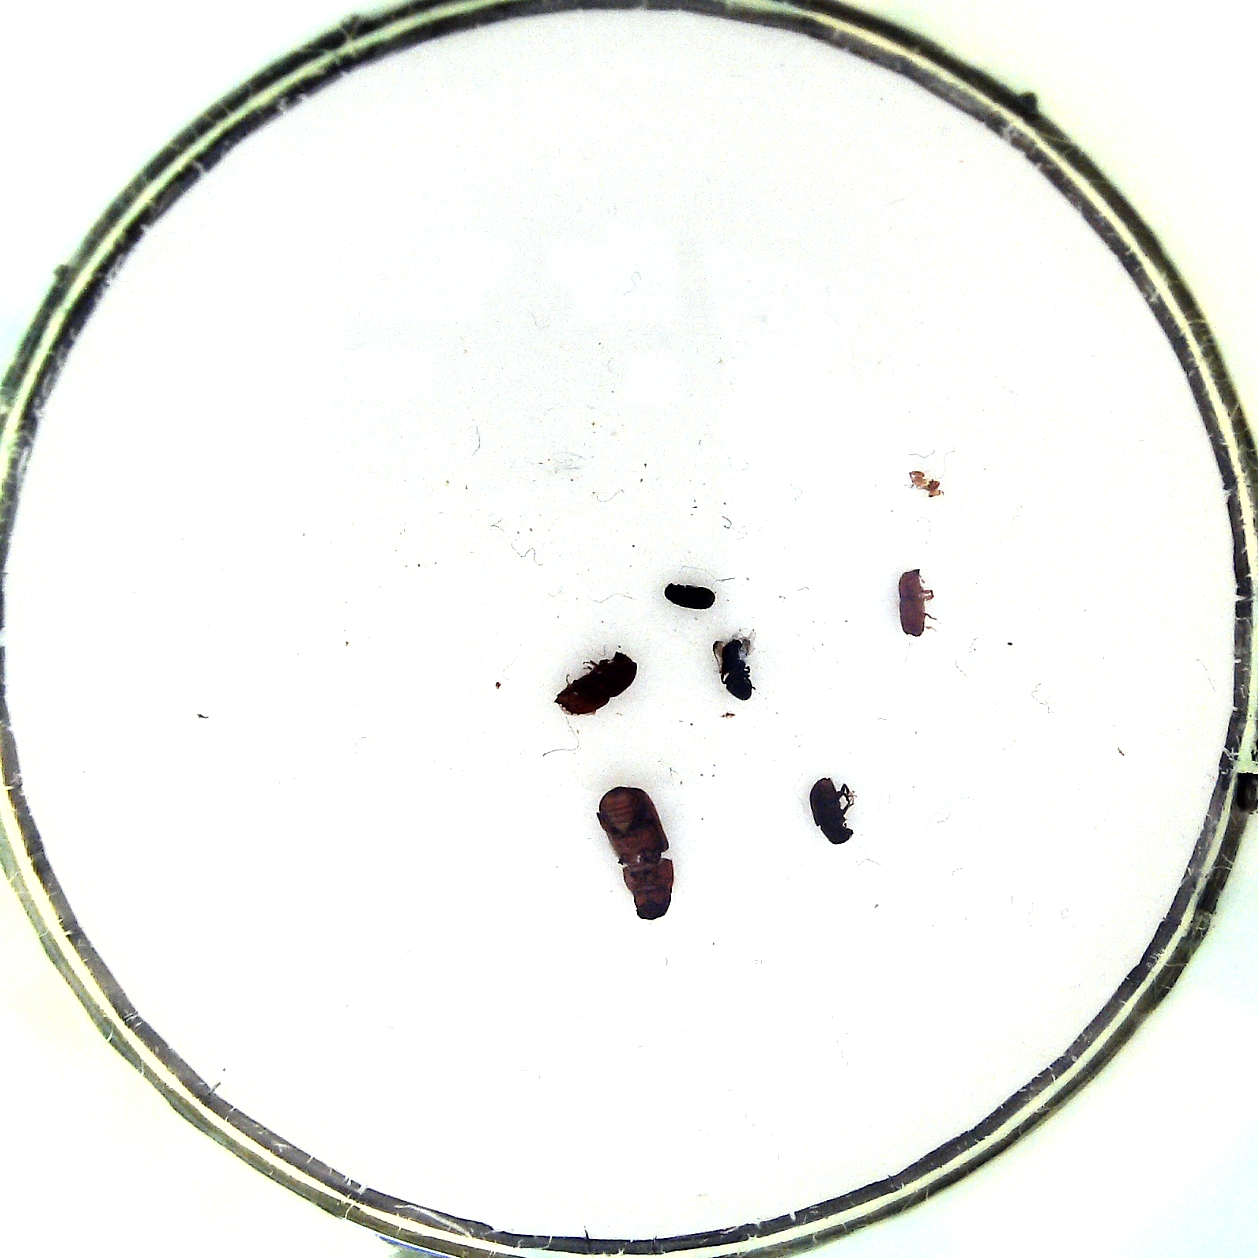Leconte: (591, 779, 679, 930)
Linnaeus: (551, 647, 641, 723)
acuminatus: (891, 566, 943, 647)
armandi: (808, 774, 867, 847)
coleoptera: (711, 624, 761, 704), (659, 576, 721, 612)
